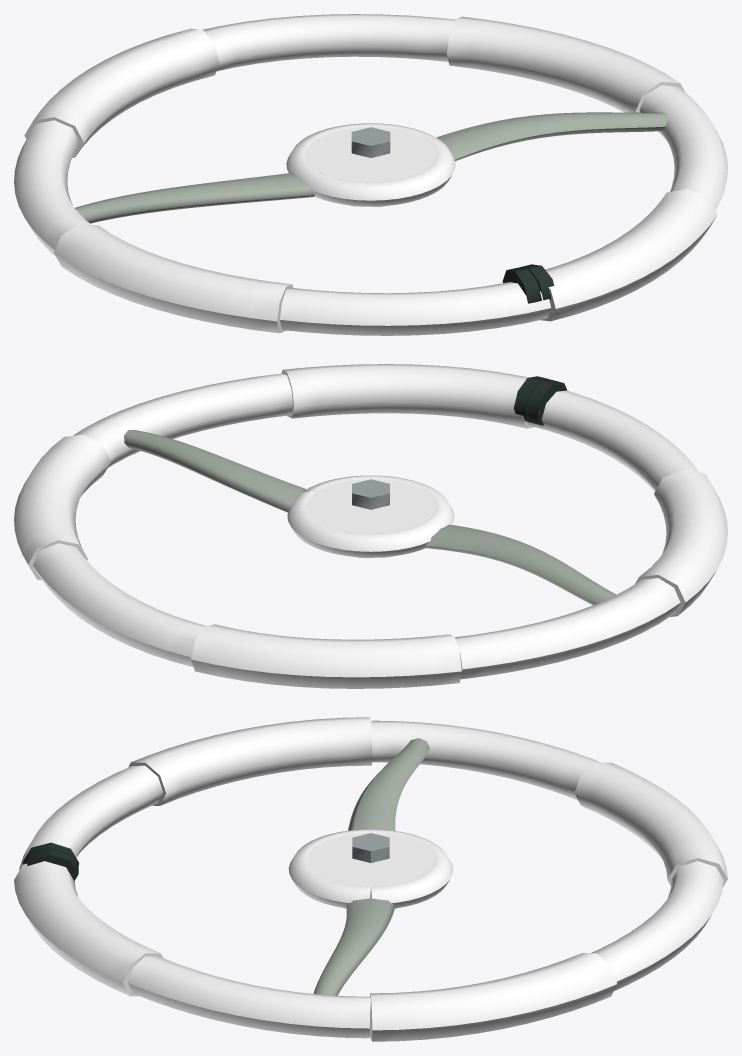
The model's file is Wheel_05_N_深緑・白縁.glb.
The picture shows the model from 3 angles, top to bottom: view 1: azimuth 30°, elevation 25°; view 2: azimuth 150°, elevation 25°; view 3: azimuth 270°, elevation 25°; orthographic projection. The views are drawn at different scales.
Visible parts, largest first — view 1: Wheel_05_N; view 2: Wheel_05_N; view 3: Wheel_05_N.
Boxes of the visible parts, <box> form: Wheel_05_N: <box>14,14,727,335</box>; Wheel_05_N: <box>14,364,727,688</box>; Wheel_05_N: <box>14,717,727,1041</box>.
Bounding box in the file's own units: 0.3295 × 0.0299 × 0.3295.
Materials: 4 (4 with a texture image).
